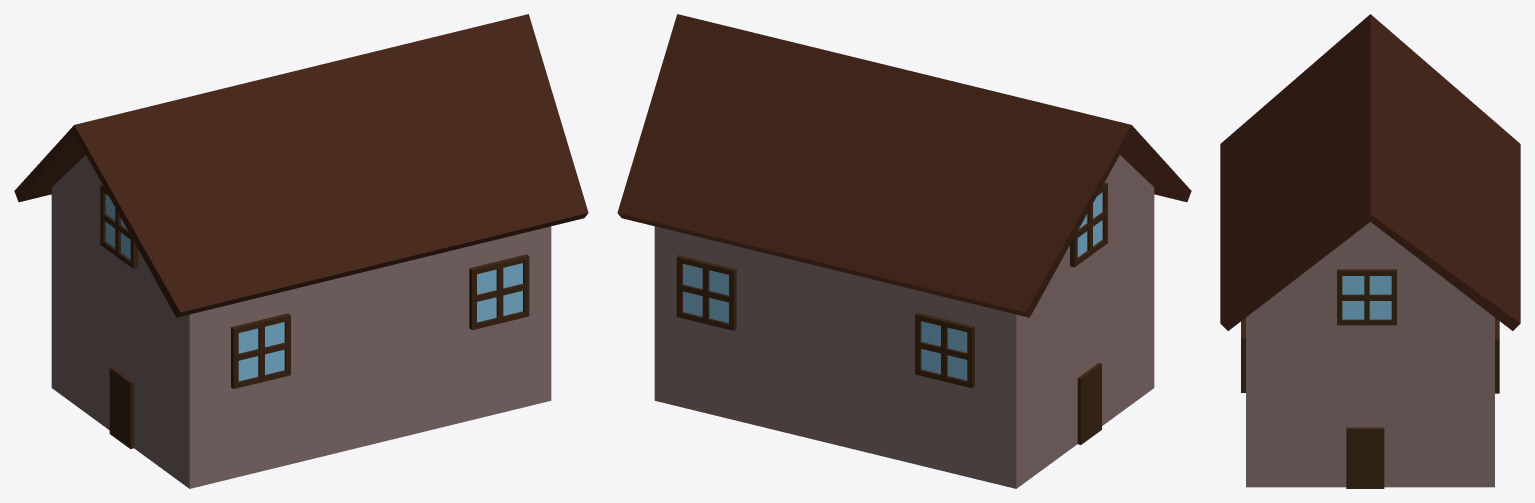
Rendered from House_BuildingMedium.fbx.
3 views of the same model, side by side, from view 1: azimuth 30°, elevation 25°; view 2: azimuth 150°, elevation 25°; view 3: azimuth 270°, elevation 25° (orthographic). The views are drawn at different scales.
Visible parts, largest first — view 1: House_BuildingMedium; view 2: House_BuildingMedium; view 3: House_BuildingMedium.
Boxes of the visible parts, x1=… form: House_BuildingMedium: x1=14, y1=14, x2=588, y2=488; House_BuildingMedium: x1=617, y1=14, x2=1191, y2=488; House_BuildingMedium: x1=1220, y1=14, x2=1520, y2=488.
Size of the model in its own units: 57.18 by 39.07 by 36.2.
